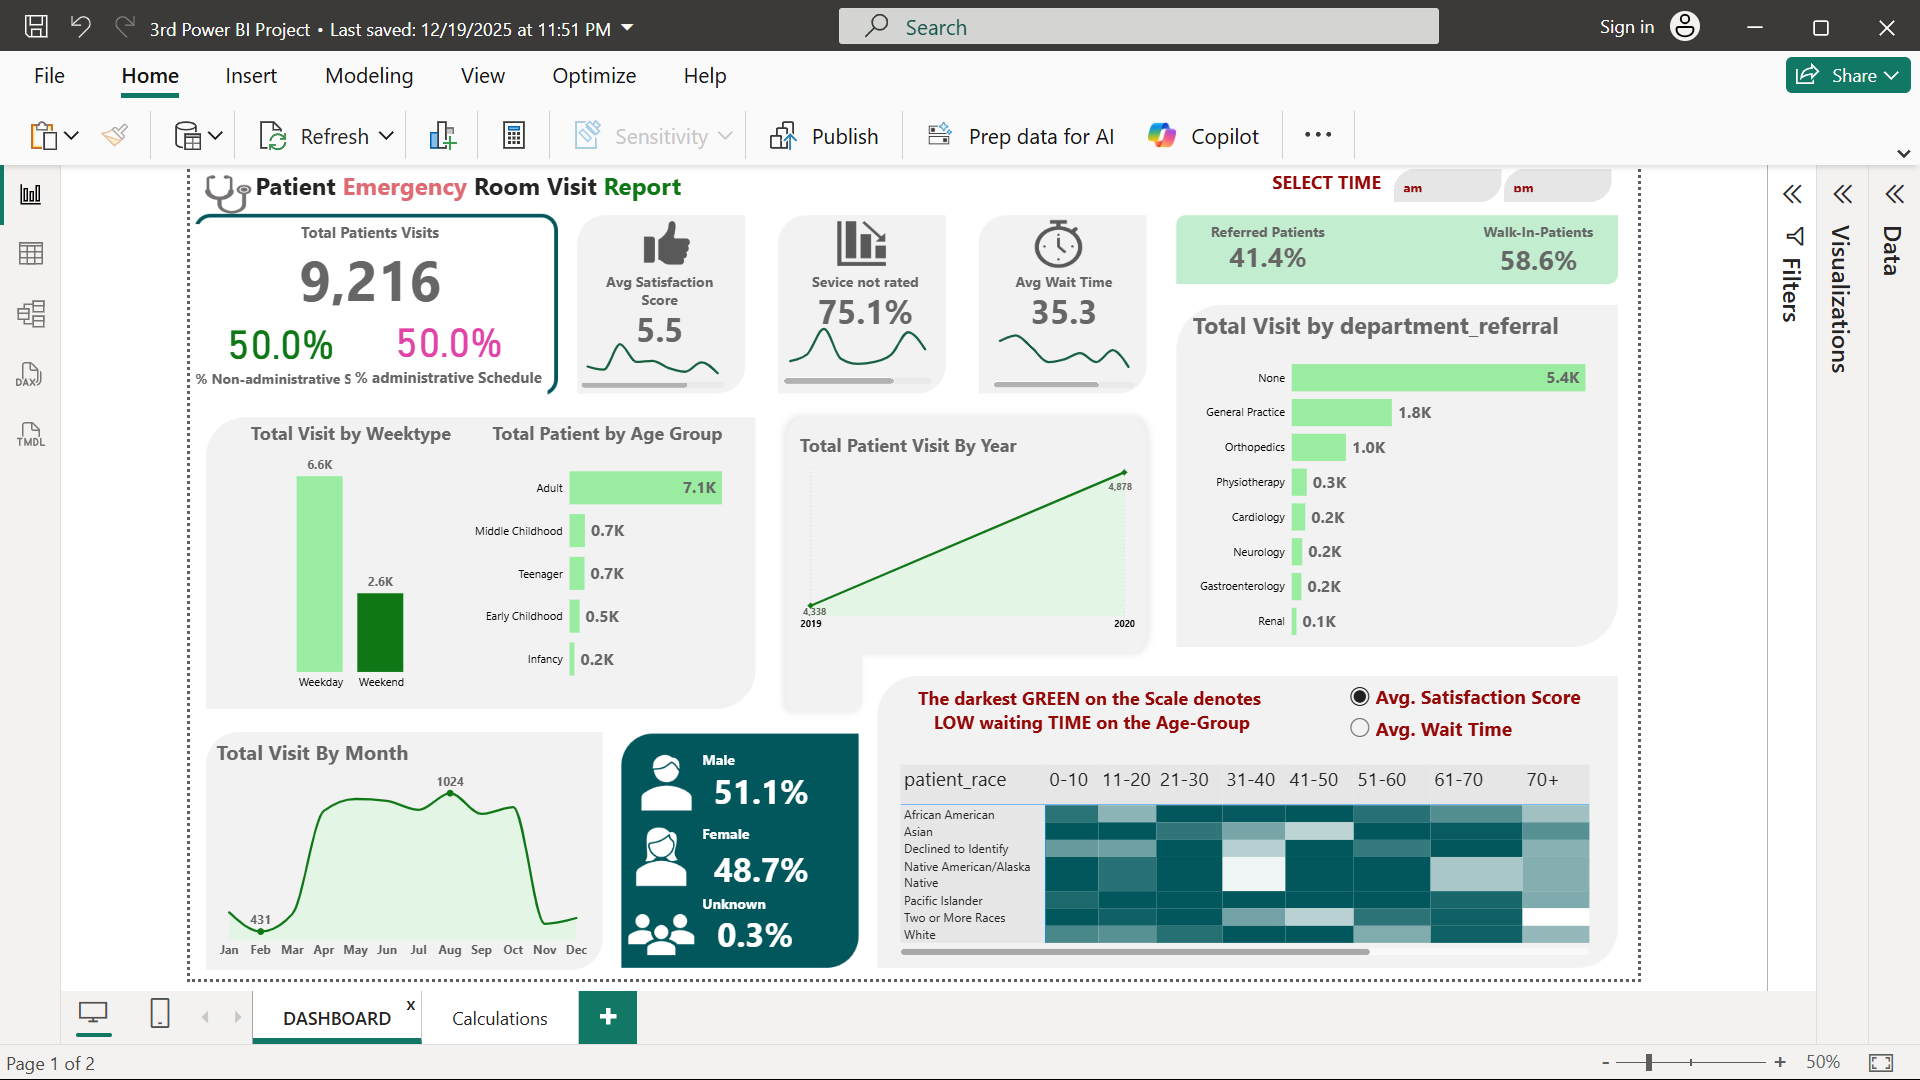

What the dashboard file says about the page in this screenshot:
{"tool":"powerbi","page":{"name":"DASHBOARD","canvas":[1920,1080],"ordinal":0},"visuals":[{"type":"textbox","box":[10,0,280,280],"z":0},{"type":"image","box":[0,0,1914.7,1078.9],"z":1000},{"type":"card","title":"Total Patients Visits","fields":{"Values":["_Measures.Total Patient"]},"box":[45.4,75,386.1,115.8],"z":2000},{"type":"textbox","box":[81.8,0,699.6,54.5],"z":3000},{"type":"card","fields":{"Values":["_Measures.% Non-administrative Schedule"]},"box":[0,190.8,238.5,104.5],"z":4000},{"type":"card","fields":{"Values":["_Measures.% administrative Schedule"]},"box":[213.5,186.2,258.9,109],"z":5000},{"type":"card","title":"Avg Satisfaction Score","fields":{"Values":["_Measures.Average Satisfaction Score"]},"box":[533.8,140.8,179.4,102.2],"z":6000},{"type":"card","title":"Sevice not rated","fields":{"Values":["_Measures.% No Rating"]},"box":[804,140.8,184,77.2],"z":7000},{"type":"card","title":"Avg Wait Time","fields":{"Values":["_Measures.Average Wait Time"]},"box":[1060.7,140.8,197.6,77.2],"z":8000},{"type":"card","title":"Referred Patients","fields":{"Values":["_Measures.% referred Patients"]},"box":[1333.3,75,193.1,65.9],"z":9000},{"type":"card","title":"Walk-In-Patients","fields":{"Values":["_Measures.% Unreferred Patients"]},"box":[1685.3,75,206.7,75],"z":10000},{"type":"barChart","fields":{"Category":["Patient Dataset.Age Group"],"Y":["_Measures.Total Patient"]},"box":[363.4,338.4,379.3,368],"z":11000},{"type":"columnChart","title":"Total Visit by Weektype","fields":{"Category":["Date.Weektype"],"Y":["_Measures.Total Patient"]},"box":[63.6,338.4,299.8,368],"z":12000},{"type":"areaChart","title":"Total Visit By Month","fields":{"Category":["Date.Month"],"Y":["_Measures.Total Patient","_Measures.CF Max Point (Month)"]},"box":[29.5,760.9,504.2,302.1],"z":13000},{"type":"card","title":"Male","fields":{"Values":["_Measures.% Male Visit"]},"box":[674.6,776.8,165.8,81.8],"z":14000},{"type":"card","title":"Female","fields":{"Values":["_Measures.% Female Visit"]},"box":[674.6,874.5,165.8,93.1],"z":15000},{"type":"card","title":"Unknown","fields":{"Values":["_Measures.% Unknown"]},"box":[674.6,967.6,149.9,79.5],"z":16000},{"type":"pivotTable","fields":{"Values":["_Measures.Average Satisfaction Score"],"Rows":["Patient Dataset.patient_race"],"Columns":["Patient Dataset.Age Buckets"]},"box":[938,790.4,922.2,263.5],"z":17000},{"type":"card","fields":{"Values":["_Measures.Hitmap Caption"]},"box":[913.1,665.5,565.6,111.3],"z":18000},{"type":"slicer","fields":{"Values":["Parameter.Parameter"]},"box":[1526.3,679.1,333.9,97.7],"z":19000},{"type":"clusteredBarChart","title":"Total Visit by department_referral","fields":{"Category":["Patient Dataset.department_referral"],"Y":["_Measures.Total Patient"]},"box":[1326.4,190.8,565.6,456.5],"z":20000},{"type":"lineChart","title":"Total Patient Visit By Year","fields":{"Category":["Date.Year"],"Y":["_Measures.Total Patient"]},"box":[804,354.3,454.3,272.6],"z":21000},{"type":"advancedSlicerVisual","fields":{"Values":["Patient Dataset.Moment"]},"box":[1592.2,0,299.8,54.5],"z":22000},{"type":"textbox","box":[1430.9,0,161.3,54.5],"z":23000},{"type":"lineChart","fields":{"Y":["_Measures.% No Rating"],"Category":["Date.Month"]},"box":[781.3,193.1,206.7,102.2],"z":23001},{"type":"lineChart","fields":{"Y":["_Measures.Average Satisfaction Score"],"Category":["Date.Month"]},"box":[513.3,218,199.9,81.8],"z":23002},{"type":"lineChart","fields":{"Y":["_Measures.Average Wait Time"],"Category":["Date.Month"]},"box":[1060.7,204.4,197.6,95.4],"z":23003}]}

Visuals, with their boxes on the page's 1920x1080 design canvas (x1, y1, x2, y2). These are canvas units, not pixel positions in the 1920x1080 screenshot, which may show the page scaled, cropped or inside an application window:
textbox: [10,0,290,280]
image: [0,0,1915,1079]
"Total Patients Visits" card: [45,75,432,191]
textbox: [82,0,781,54]
card - _Measures.% Non-administrative Schedule: [0,191,238,295]
card - _Measures.% administrative Schedule: [214,186,472,295]
"Avg Satisfaction Score" card: [534,141,713,243]
"Sevice not rated" card: [804,141,988,218]
"Avg Wait Time" card: [1061,141,1258,218]
"Referred Patients" card: [1333,75,1526,141]
"Walk-In-Patients" card: [1685,75,1892,150]
barChart - Patient Dataset.Age Group x _Measures.Total Patient: [363,338,743,706]
"Total Visit by Weektype" columnChart: [64,338,363,706]
"Total Visit By Month" areaChart: [30,761,534,1063]
"Male" card: [675,777,840,859]
"Female" card: [675,874,840,968]
"Unknown" card: [675,968,824,1047]
pivotTable - _Measures.Average Satisfaction Score x Patient Dataset.patient_race: [938,790,1860,1054]
card - _Measures.Hitmap Caption: [913,666,1479,777]
slicer - Parameter.Parameter: [1526,679,1860,777]
"Total Visit by department_referral" clusteredBarChart: [1326,191,1892,647]
"Total Patient Visit By Year" lineChart: [804,354,1258,627]
advancedSlicerVisual - Patient Dataset.Moment: [1592,0,1892,54]
textbox: [1431,0,1592,54]
lineChart - _Measures.% No Rating x Date.Month: [781,193,988,295]
lineChart - _Measures.Average Satisfaction Score x Date.Month: [513,218,713,300]
lineChart - _Measures.Average Wait Time x Date.Month: [1061,204,1258,300]
